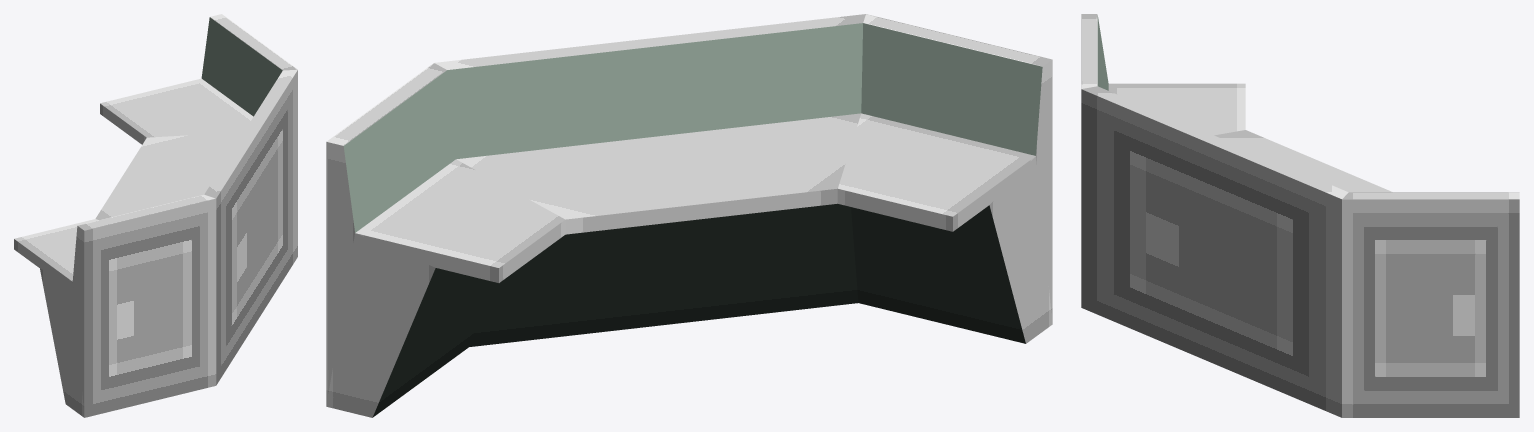
Rendered from desk_corner_inside_item.obj.
3 renders of one model, left to right at view 1: azimuth 30°, elevation 25°; view 2: azimuth 150°, elevation 25°; view 3: azimuth 270°, elevation 25°, orthographic. The views are drawn at different scales.
Bounding box in the file's own units: 2 × 1.1 × 2.
